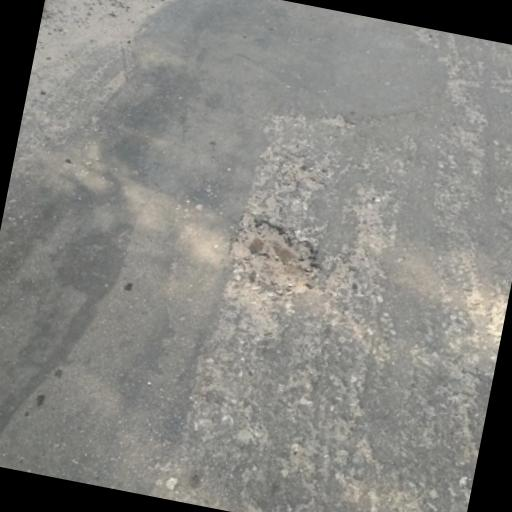pothole: (220, 207, 337, 308)
